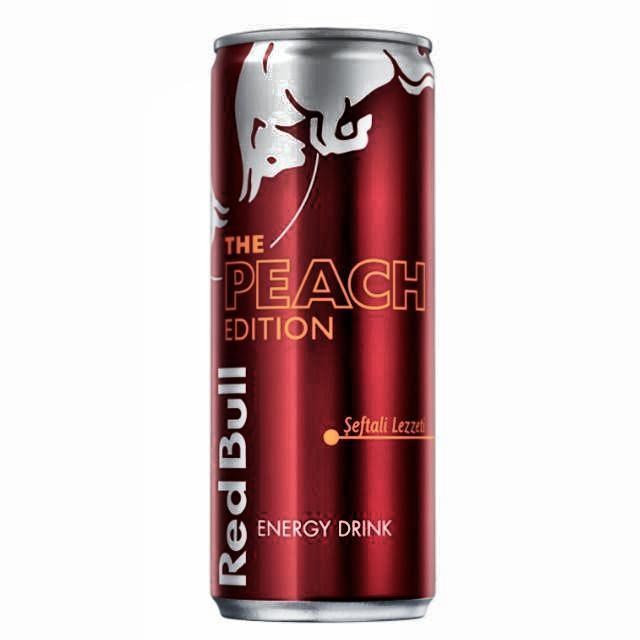metal: (207, 27, 439, 624)
